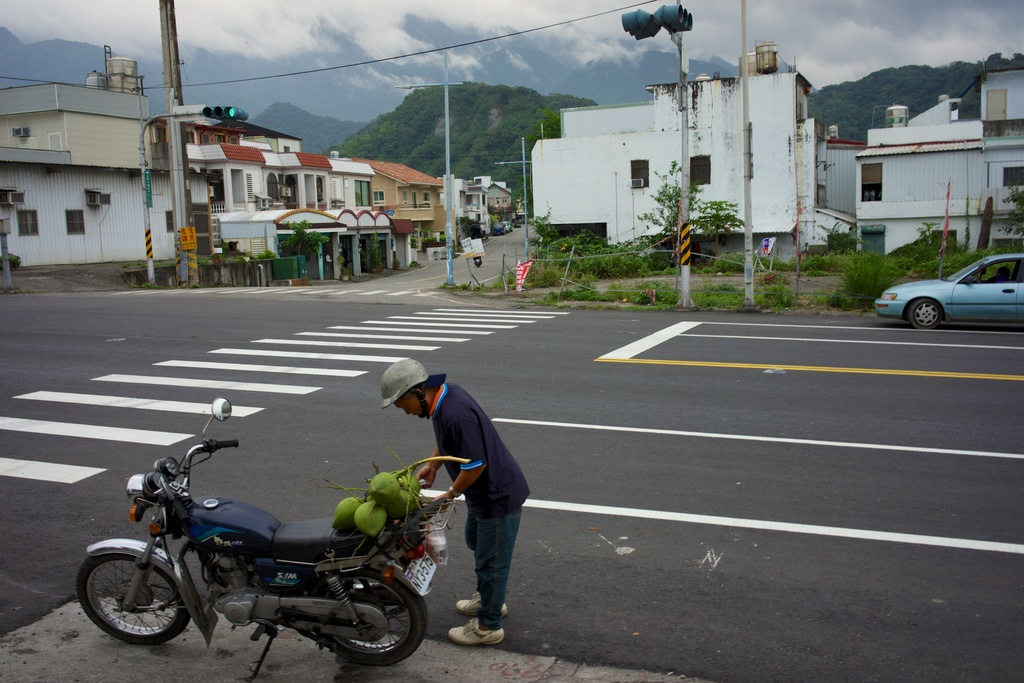Car: (877, 246, 1013, 329)
